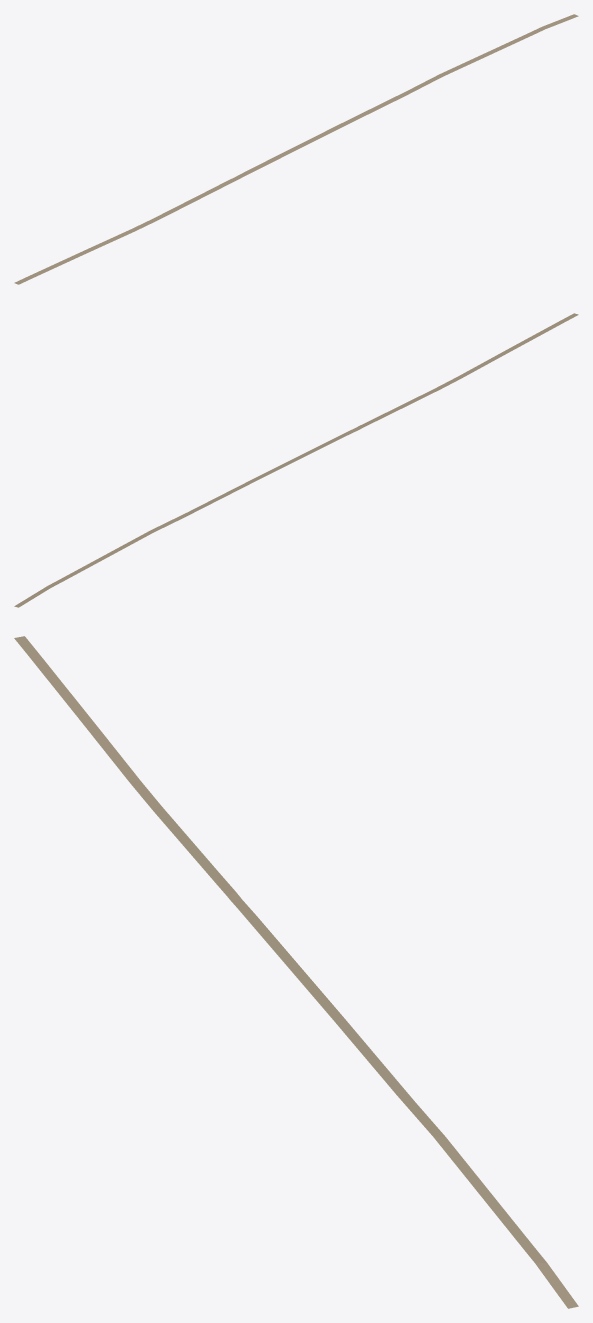
The model's file is farm_4_2_track.glb.
The picture shows the model from 3 angles, top to bottom: view 1: azimuth 30°, elevation 25°; view 2: azimuth 210°, elevation 25°; view 3: azimuth 270°, elevation 25°; orthographic projection. The views are drawn at different scales.
Visible parts, largest first — view 1: geometry_0; view 2: geometry_0; view 3: geometry_0.
Part boxes in pixels (box(x1,y1,x2,y2)): geometry_0: box(14, 14, 578, 284); geometry_0: box(14, 313, 578, 607); geometry_0: box(14, 636, 578, 1308).
Bounding box in the file's own units: 438 × 7.31 × 161.
